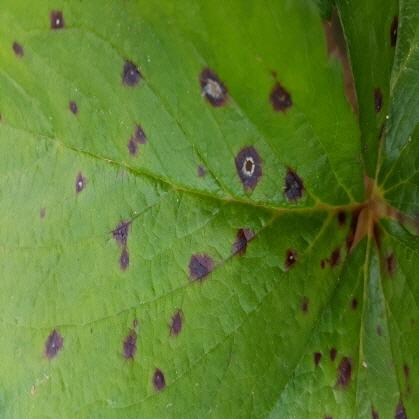Leaf Spot: (0, 0, 366, 418), (263, 214, 418, 418), (334, 0, 418, 221)
